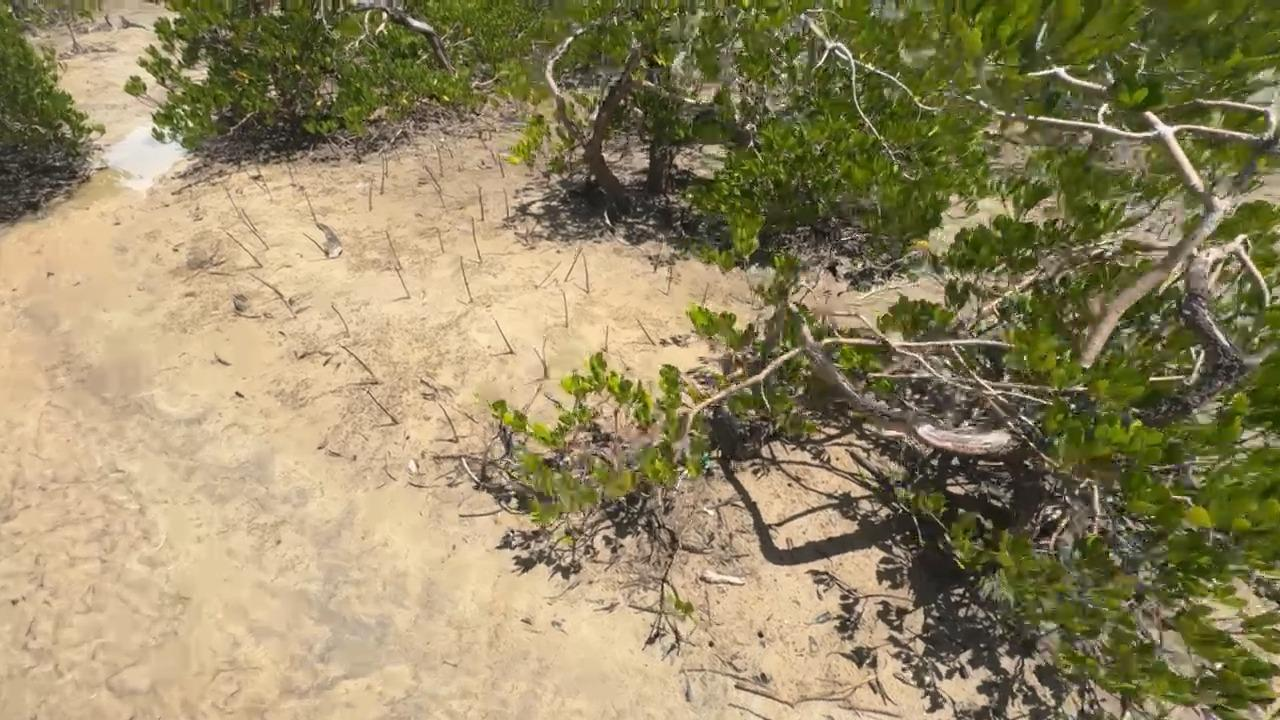Tree: (225, 231, 263, 267), (365, 388, 400, 424), (342, 344, 374, 376), (248, 271, 285, 297), (438, 402, 459, 442), (242, 220, 270, 250), (534, 335, 551, 379), (385, 229, 403, 269), (564, 247, 584, 283), (459, 255, 474, 301), (495, 319, 515, 353), (276, 291, 297, 318), (393, 265, 410, 298), (302, 232, 327, 254), (331, 305, 350, 332), (471, 216, 482, 261), (241, 207, 259, 232), (424, 165, 442, 190), (227, 192, 241, 216), (433, 184, 445, 208), (582, 252, 589, 292), (561, 288, 568, 327), (306, 196, 316, 221), (479, 186, 485, 220), (503, 187, 509, 216), (667, 266, 672, 296), (604, 324, 609, 352), (380, 160, 384, 194), (438, 231, 444, 253), (498, 156, 504, 178), (369, 185, 373, 211)
